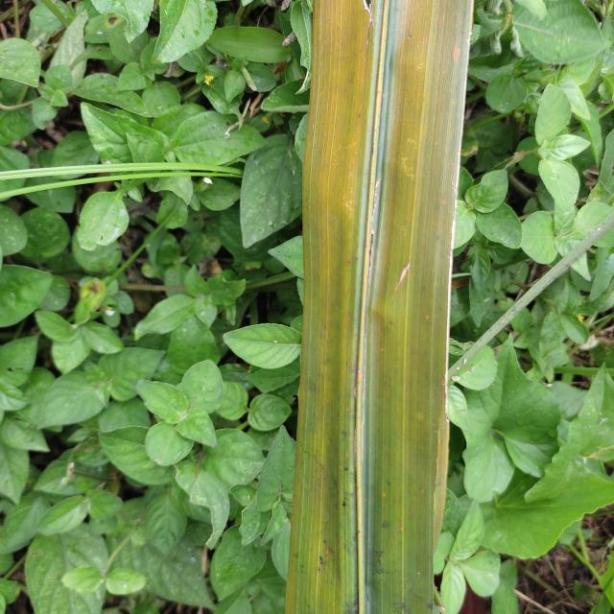Megnesium: (283, 0, 473, 614)
